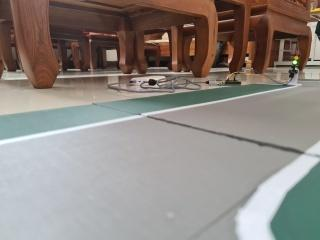green: (290, 46, 302, 76)
